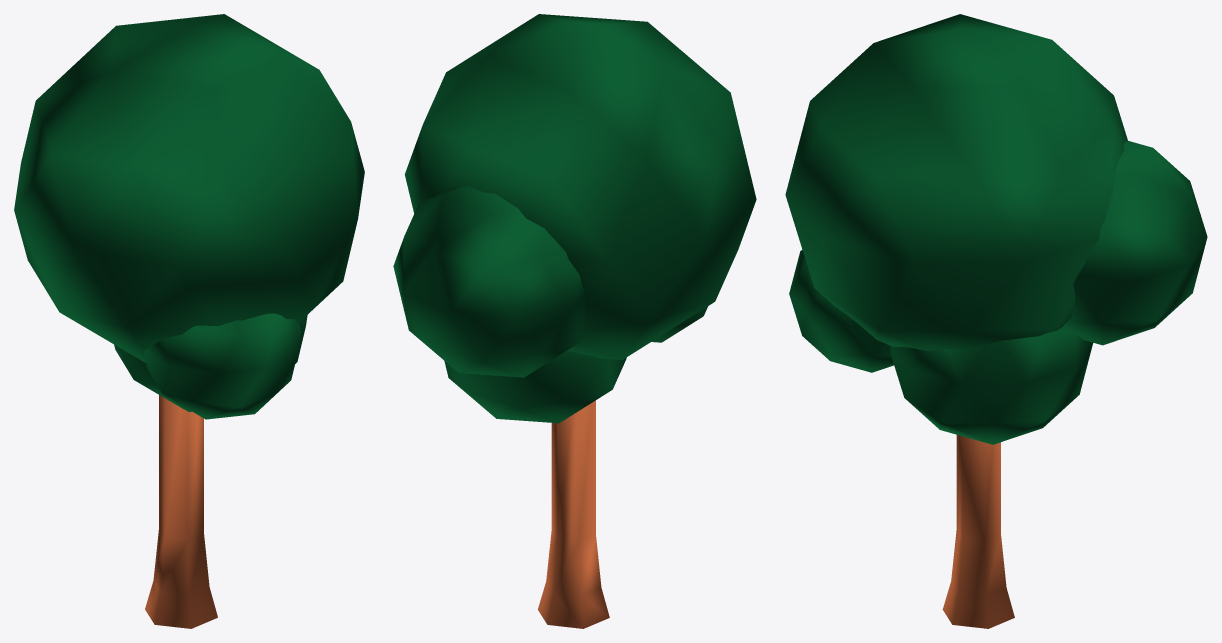
File: Tree_01.fbx
3 renders of one model, left to right at view 1: azimuth 30°, elevation 25°; view 2: azimuth 150°, elevation 25°; view 3: azimuth 270°, elevation 25°, orthographic.
Visible parts, largest first — view 1: tree01; view 2: tree01; view 3: tree01.
Part boxes in pixels (<box>): tree01: <box>14,14,364,628</box>; tree01: <box>393,14,756,628</box>; tree01: <box>785,14,1207,628</box>.
Size of the model in its own units: 597 by 1116 by 731.
1 material, 1 textured.
